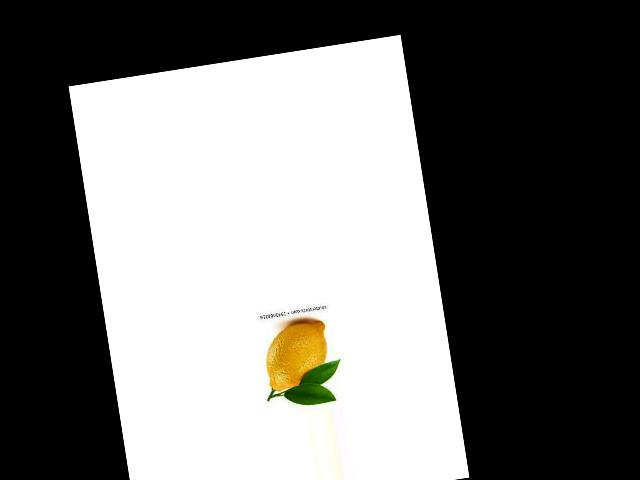lemon: (258, 317, 339, 396)
